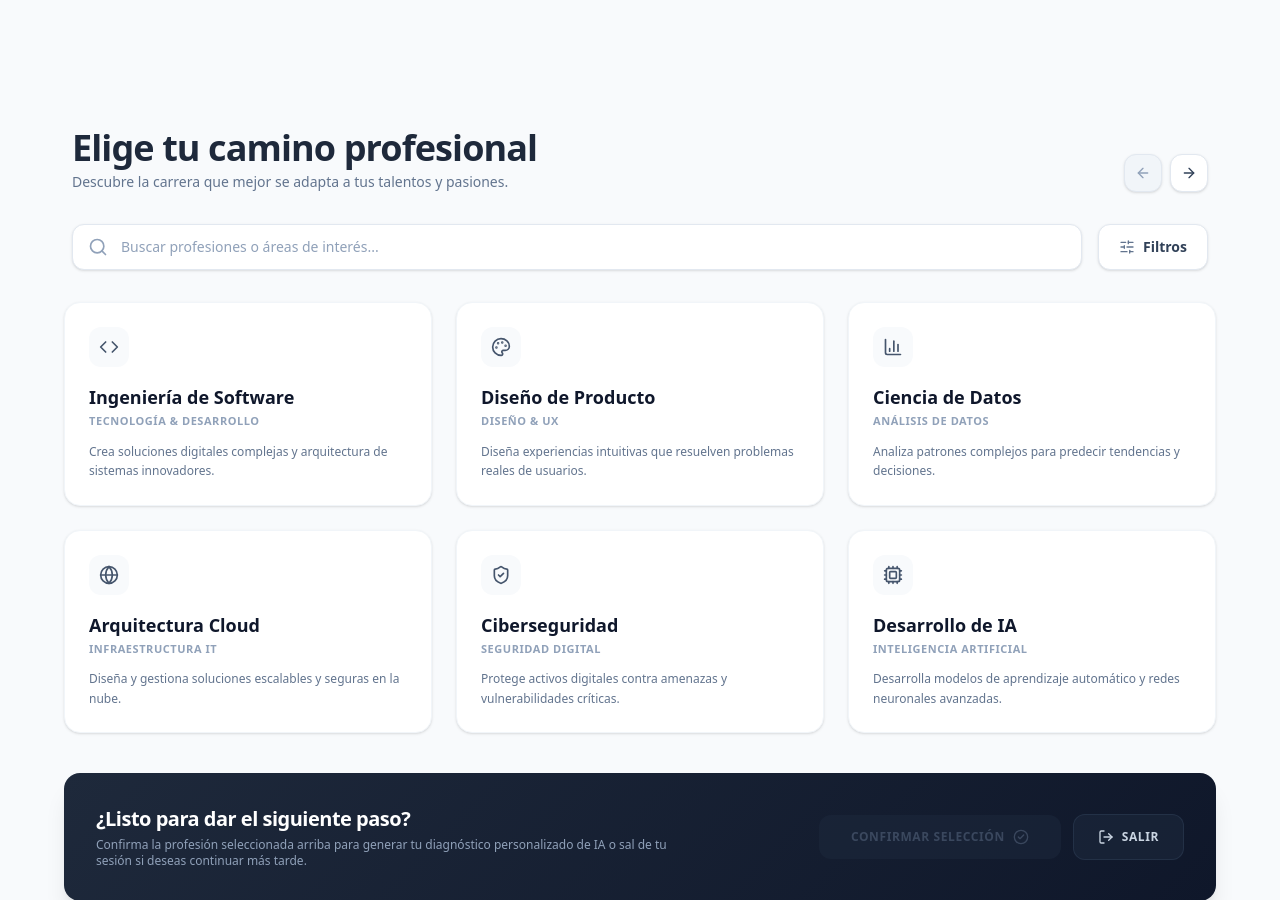
Test: Dashboard › navega a la segunda página con el botón siguiente (ArrowRight)
// Filtramos los botones que contienen SVG (paginación)
What coordinates should you click on to do the following:
click the 2nd button
I would click on:
 (1189, 173)
Its box is top-left (1170, 154), bottom-right (1208, 192).
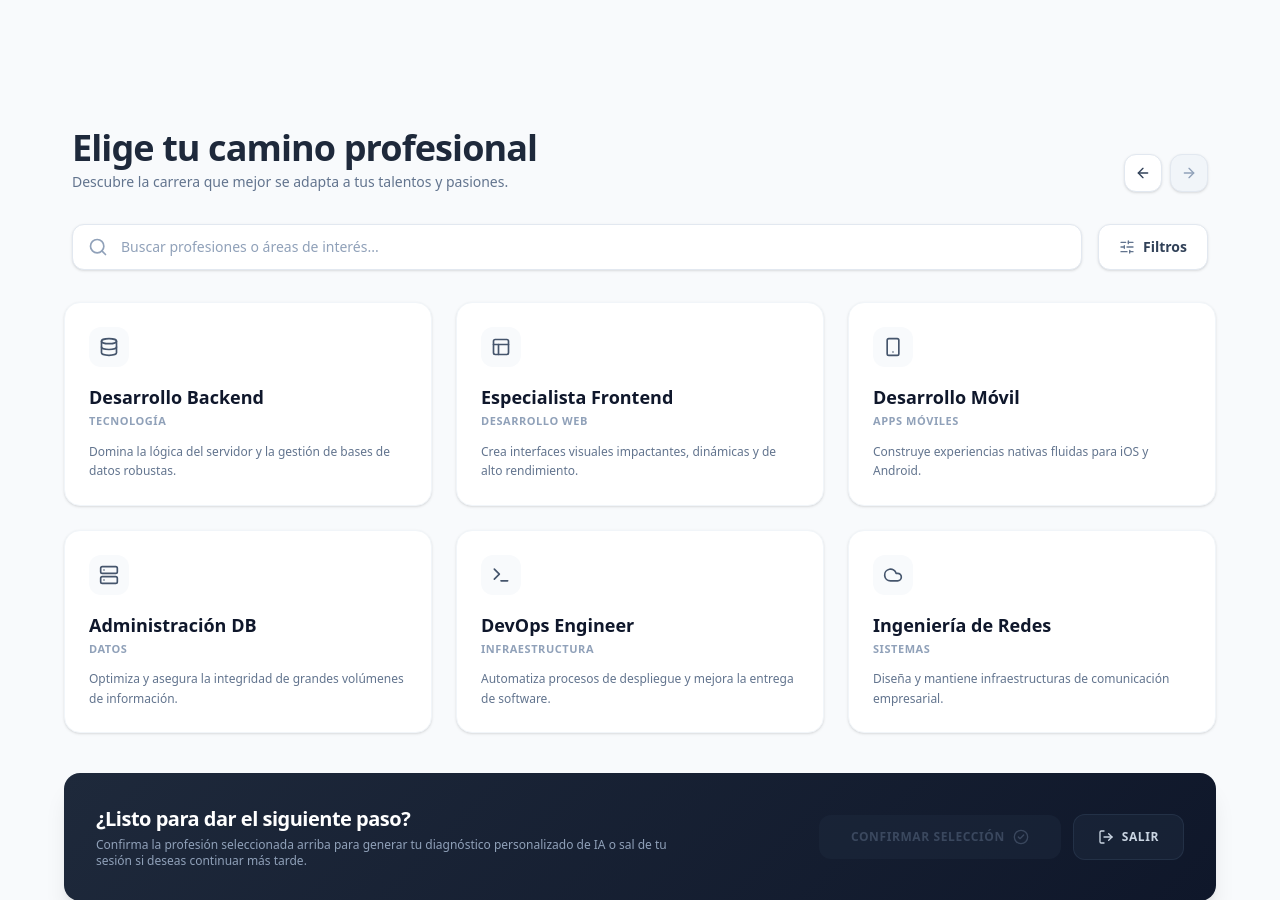
Expected: the heading "Desarrollo Backend" is shown, top-left (89, 385), bottom-right (264, 409)
